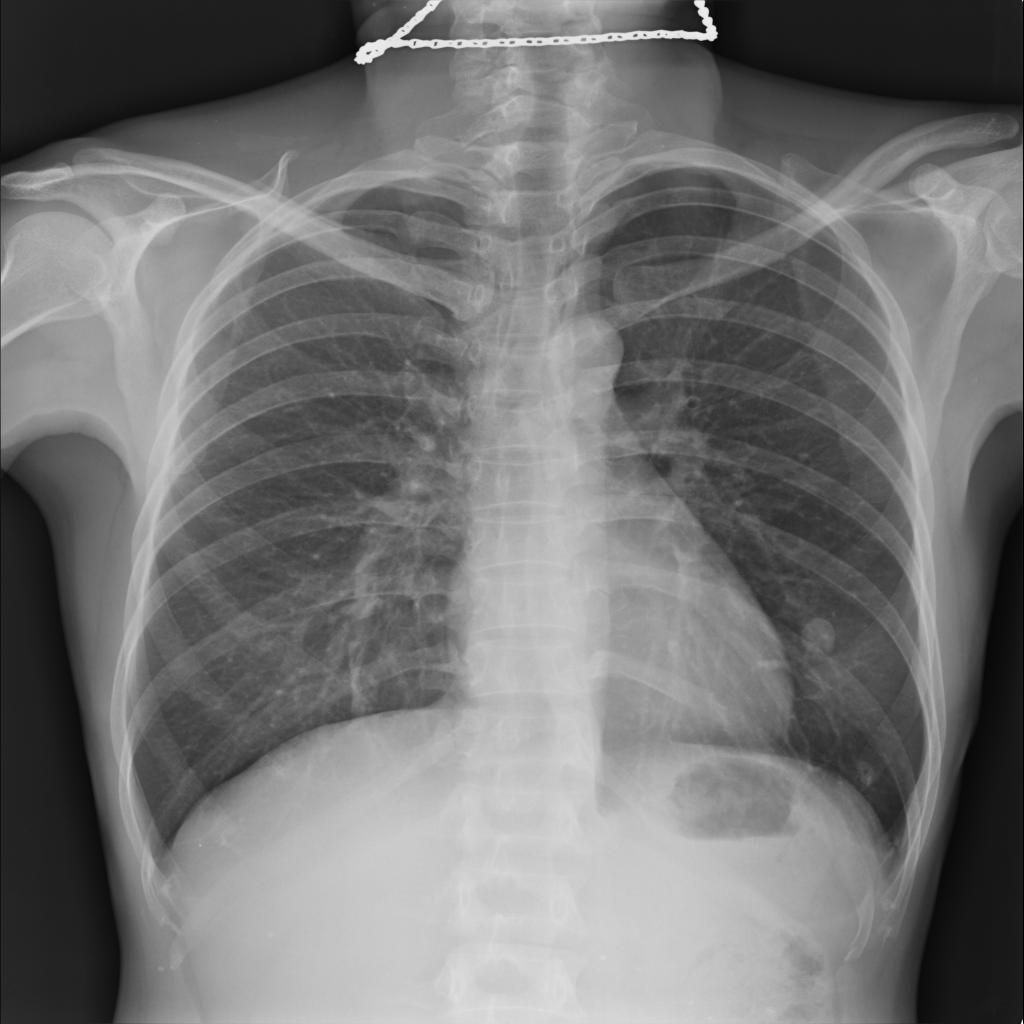Nodule: (802, 613, 838, 654)
